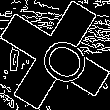O_NW: (22, 23, 88, 87)
